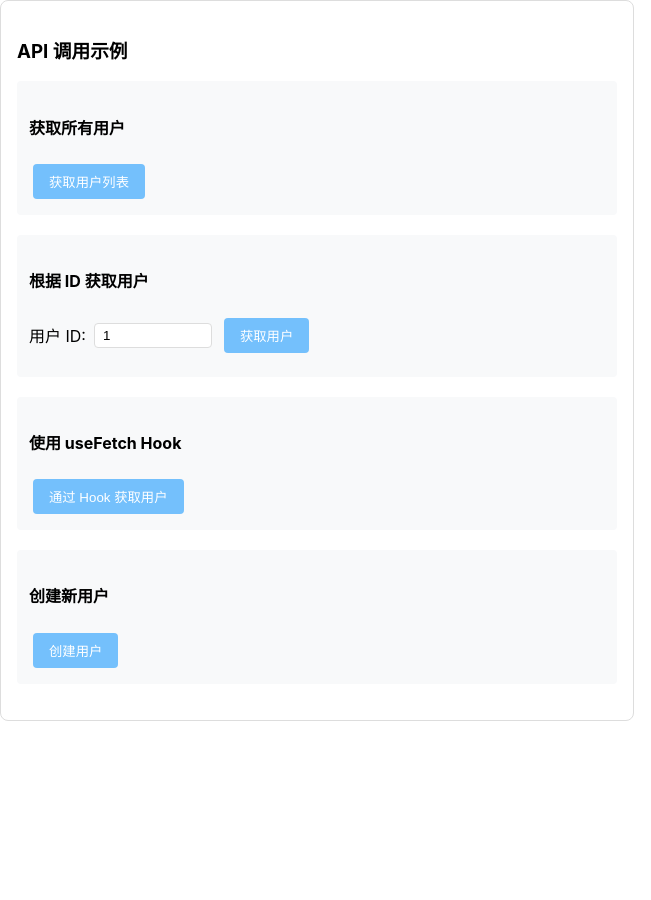
Test case: ApiExample组件 › 获取用户列表功能 › 应该限制显示的用户数量不超过5个
Click the button with test id "fetch-users-button" at (89, 182), box [33,164,145,199]
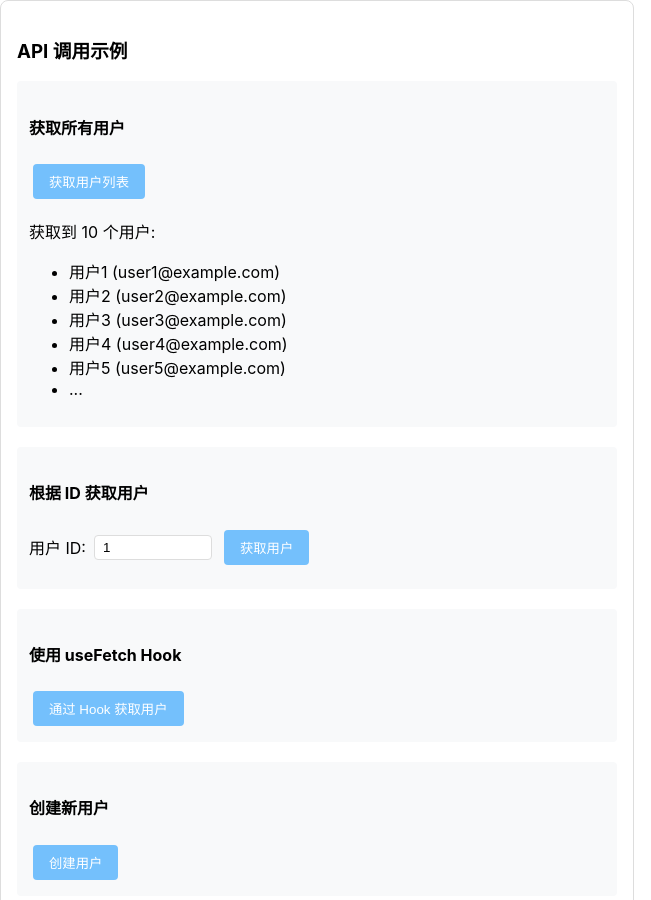
expect the text "获取到 10 个用户:" is shown: met, box [29,222,155,242]
expect the list item "用户1 (user1@example.com)" is shown: met, box [69,262,280,282]
expect the list item "用户5 (user5@example.com)" is shown: met, box [69,358,286,378]
